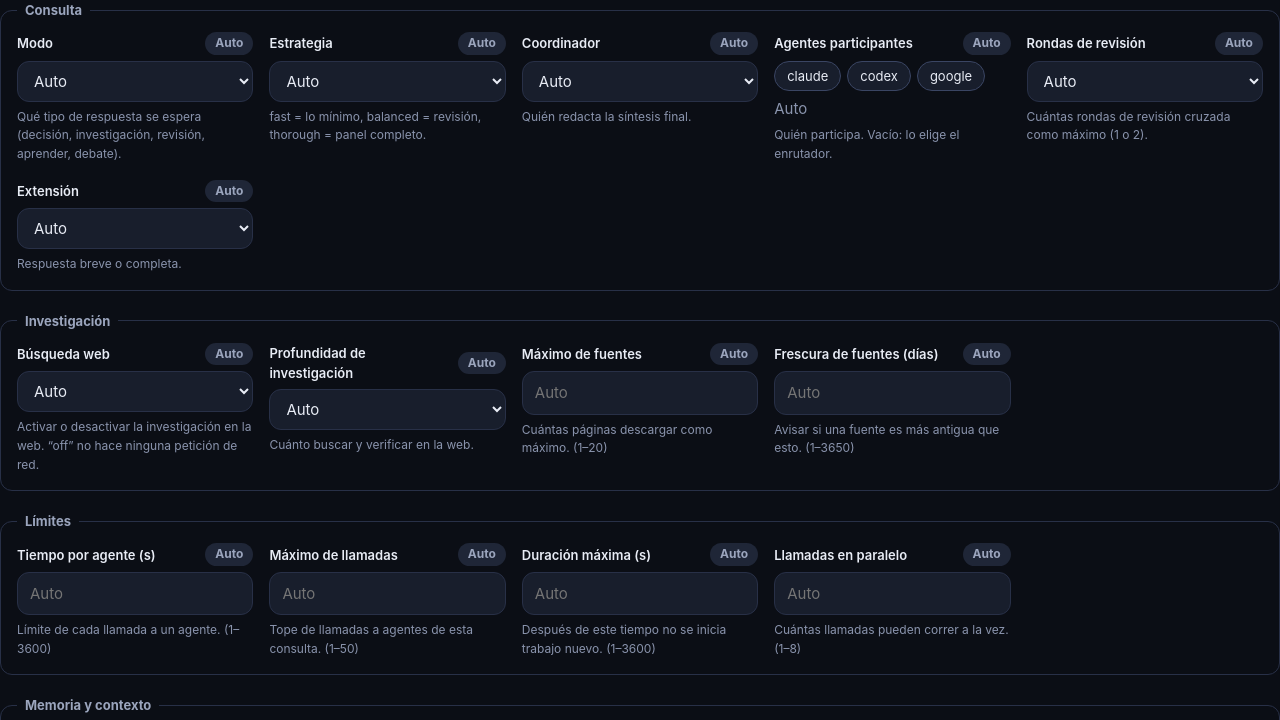
Test: settings panel › starts on Auto and a manual choice is kept separate until reset
Select "thorough" in the dropdown labelled "Estrategia": (388, 81) [269,61,506,102]
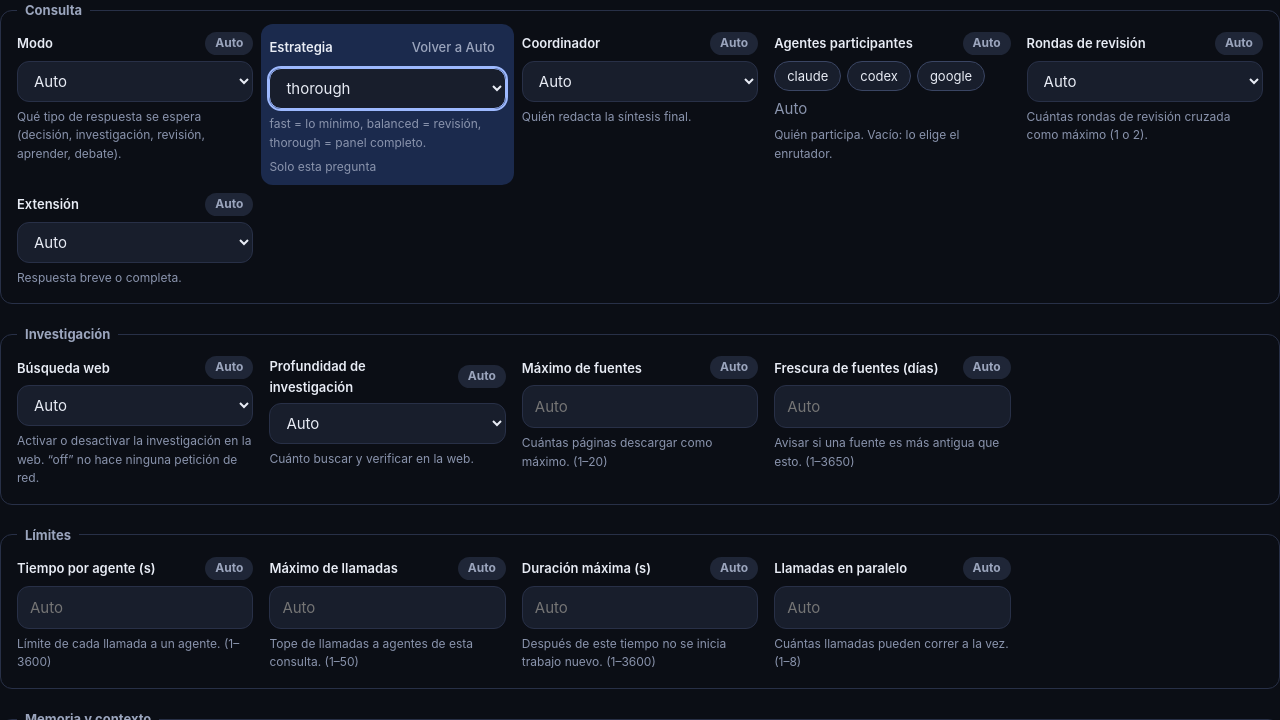
Click the button with aria-label "Volver a Auto: Estrategia": (453, 47) [401,32,506,62]
(page scrolled)
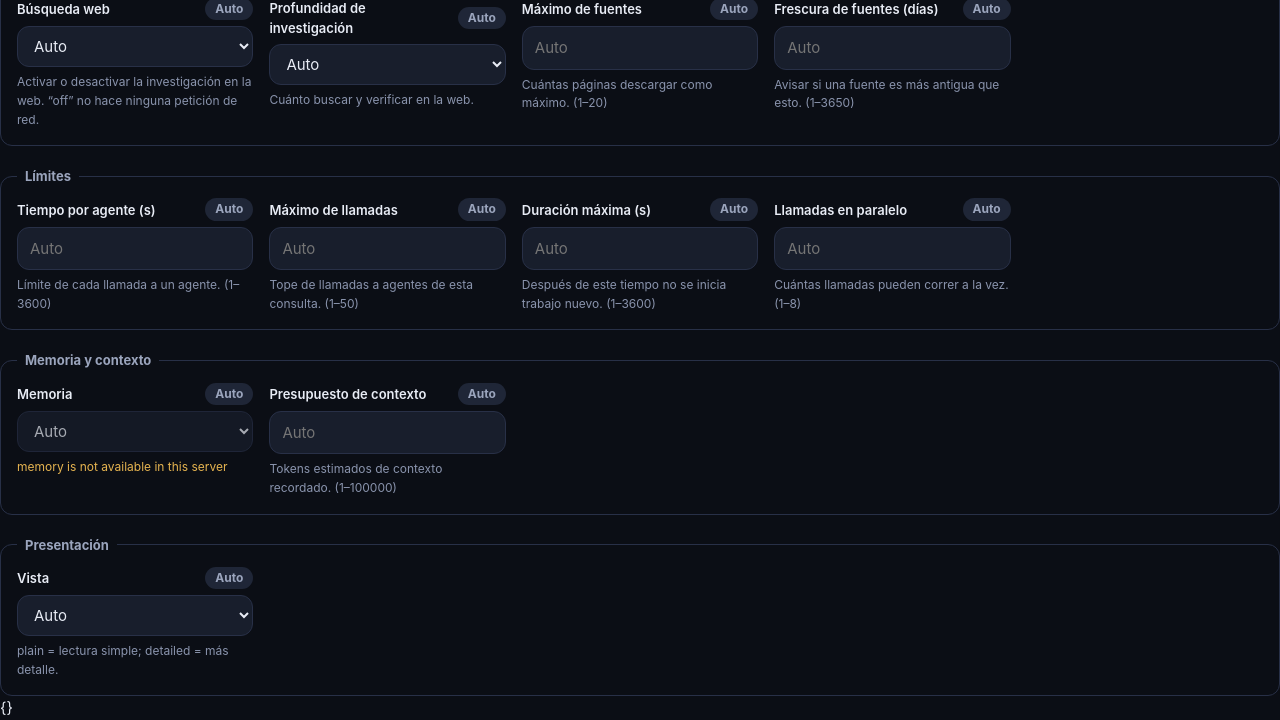
Check: the text with test id "value" reads "{}", box [0,698,13,718]
